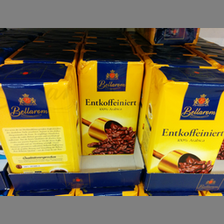coffee: (143, 66, 224, 174), (1, 64, 80, 172), (78, 48, 145, 156)
